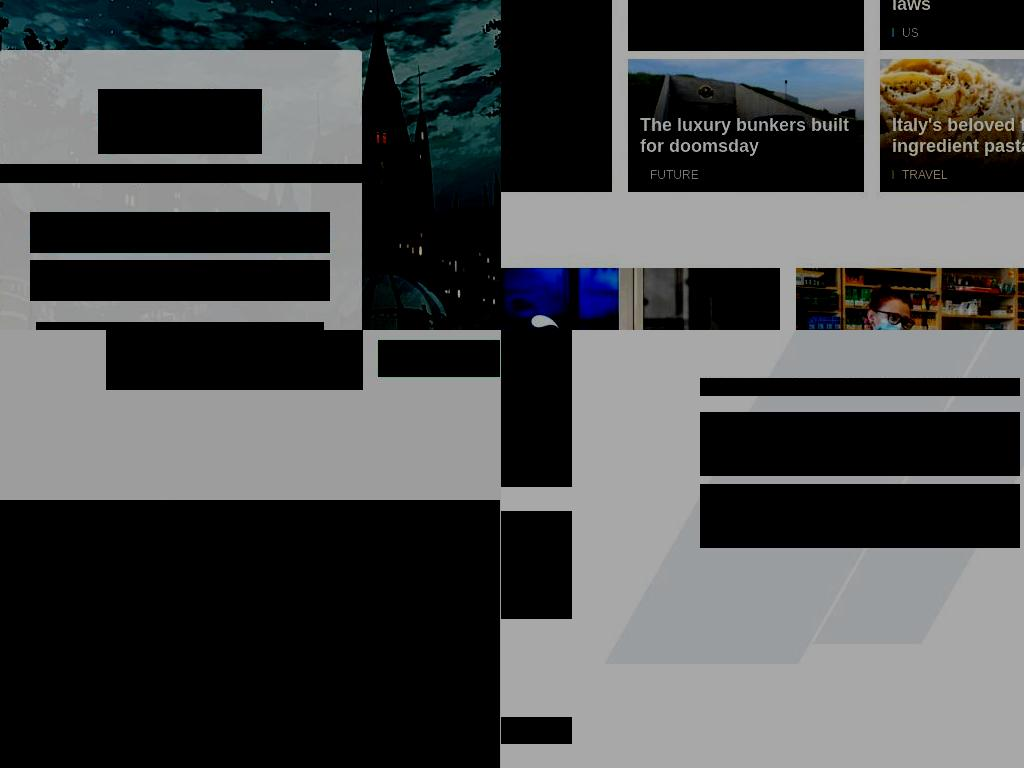button: (700, 412, 1020, 476), (700, 484, 1020, 548), (30, 212, 330, 253), (30, 260, 330, 301), (106, 330, 202, 390), (202, 330, 285, 390), (285, 330, 363, 390), (378, 340, 500, 377), (640, 27, 852, 40), (640, 169, 852, 181), (892, 27, 1024, 40), (892, 169, 1024, 181), (501, 163, 596, 177)
heading: (640, 115, 852, 157), (501, 39, 596, 105), (892, 115, 1024, 157), (640, 0, 852, 16)
image: (0, 500, 500, 768), (628, 59, 864, 192), (880, 59, 1024, 192), (501, 268, 780, 330), (796, 268, 1024, 330), (628, 0, 864, 51), (98, 89, 262, 154), (880, 0, 1024, 51)
text: (0, 164, 362, 183), (700, 378, 1020, 396), (501, 113, 596, 151), (36, 322, 324, 330), (126, 351, 182, 368)
